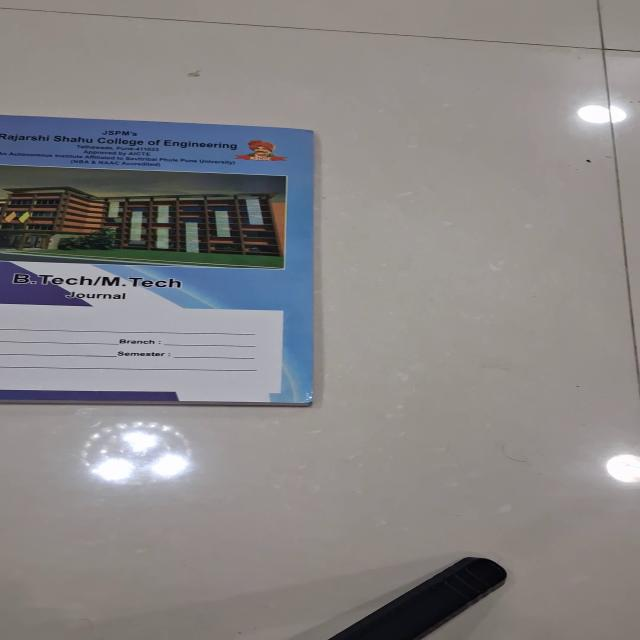paper: (0, 114, 316, 405)
